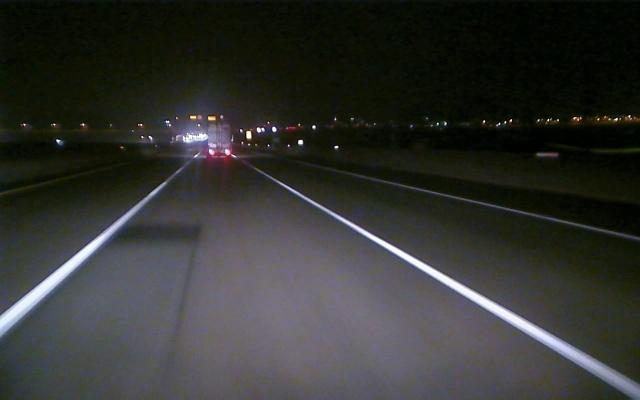lane: (272, 180, 637, 394), (2, 184, 162, 336), (354, 173, 637, 242), (0, 168, 113, 197)
